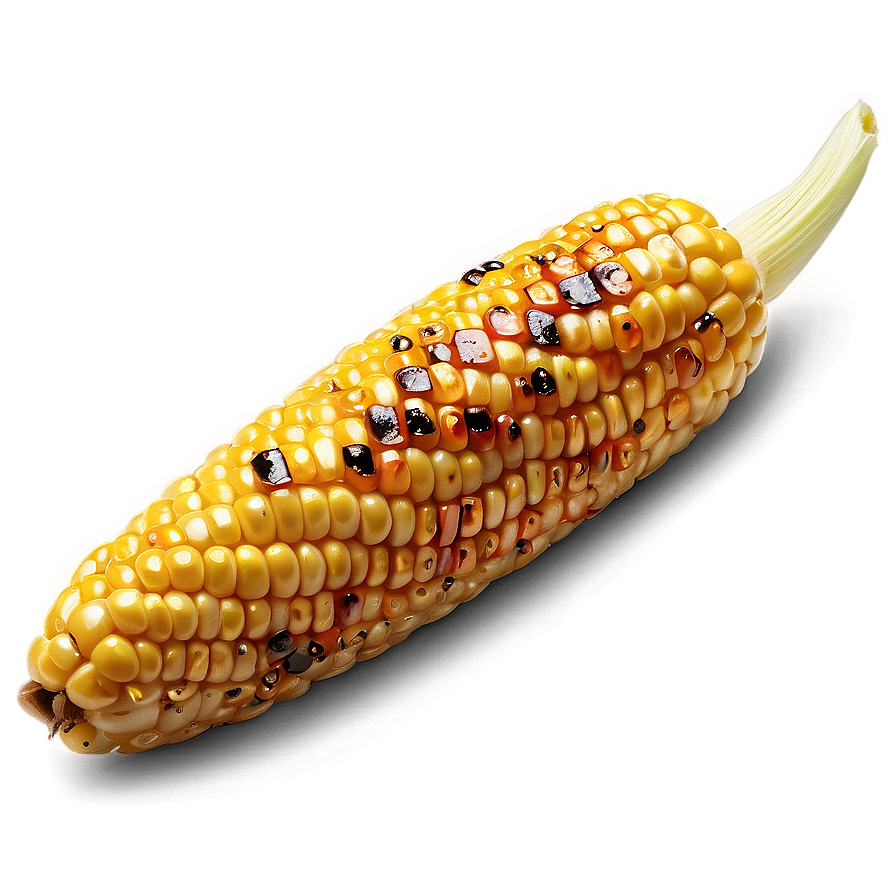corn: (10, 15, 896, 812)
